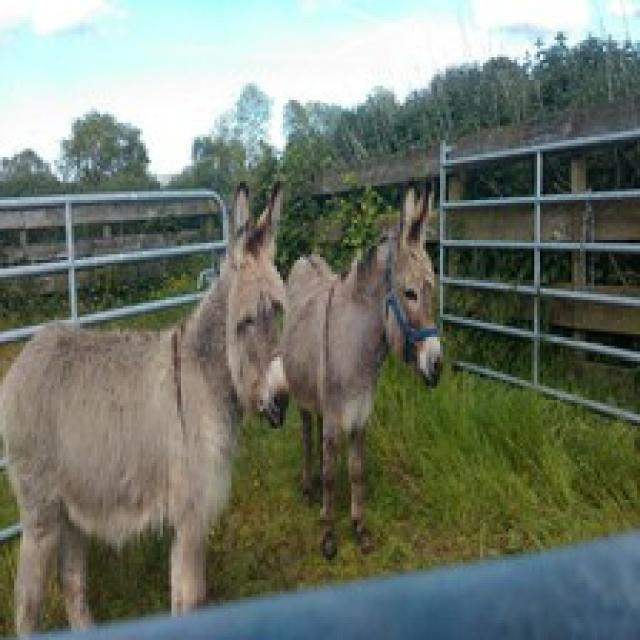Donkey: (0, 156, 326, 640), (276, 158, 482, 551)
